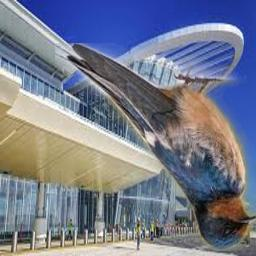Swallow: (55, 43, 256, 251)
